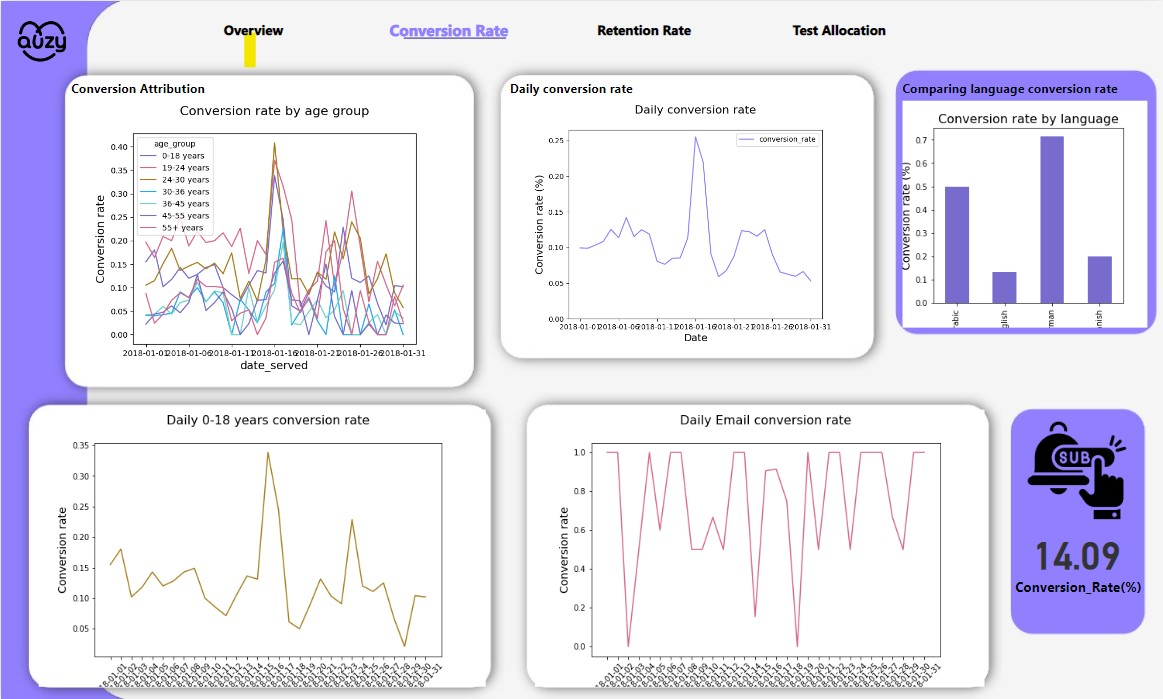

The page's visual inventory and layout, read from the dashboard file:
{"tool":"powerbi","page":{"name":"Conversion Rate","canvas":[1500,900],"ordinal":1},"visuals":[{"type":"pythonVisual","title":"Daily conversion rate ","fields":{"Values":["marketing.date_served","marketing.user_id","marketing.converted"]},"box":[651.7,101.7,478.3,348.3],"z":0},{"type":"pythonVisual","title":"Conversion Attribution","fields":{"Values":["marketing.converted","marketing.user_id","marketing.date_served","marketing.age_group"]},"box":[85,101.7,523.3,385],"z":1000},{"type":"pythonVisual","fields":{"Values":["marketing.date_served","marketing.age_group","marketing.converted","marketing.user_id","marketing.marketing_channel"]},"box":[43.8,521.9,587.5,367.2],"z":2000},{"type":"pythonVisual","fields":{"Values":["marketing.marketing_channel","marketing.date_served","marketing.user_id","marketing.converted"]},"box":[684.4,521.9,590.6,367.2],"z":3000},{"type":"pythonVisual","title":"Comparing language conversion rate ","fields":{"Values":["marketing.user_id","marketing.converted","marketing.language_displayed"]},"box":[1158.3,101.7,326.7,325],"z":4000},{"type":"card","fields":{"Values":["Min(marketing.conversion_rate(%))"]},"box":[1290,665,195,113.3],"z":5000},{"type":"image","box":[1290,533.3,195,143.3],"z":6000},{"type":"pageNavigator","box":[204.7,10.9,1000,50],"z":7000},{"type":"shape","box":[518.8,35.9,132.8,25],"z":8000},{"type":"image","box":[0,1.5,105.6,98.2],"z":9000}]}

Visuals, with their boxes in screenshot pixels (x1, y1, x2, y2), scaled from the page's 1500x900 canvas onto the 1163x699 screenshot:
"Daily conversion rate " pythonVisual: (x1=505, y1=79, x2=876, y2=350)
"Conversion Attribution" pythonVisual: (x1=66, y1=79, x2=472, y2=378)
pythonVisual - marketing.date_served x marketing.age_group: (x1=34, y1=405, x2=489, y2=691)
pythonVisual - marketing.marketing_channel x marketing.date_served: (x1=531, y1=405, x2=989, y2=691)
"Comparing language conversion rate " pythonVisual: (x1=898, y1=79, x2=1151, y2=331)
card - Min(marketing.conversion_rate(%)): (x1=1000, y1=516, x2=1151, y2=604)
image: (x1=1000, y1=414, x2=1151, y2=525)
pageNavigator: (x1=159, y1=8, x2=934, y2=47)
shape: (x1=402, y1=28, x2=505, y2=47)
image: (x1=0, y1=1, x2=82, y2=77)
